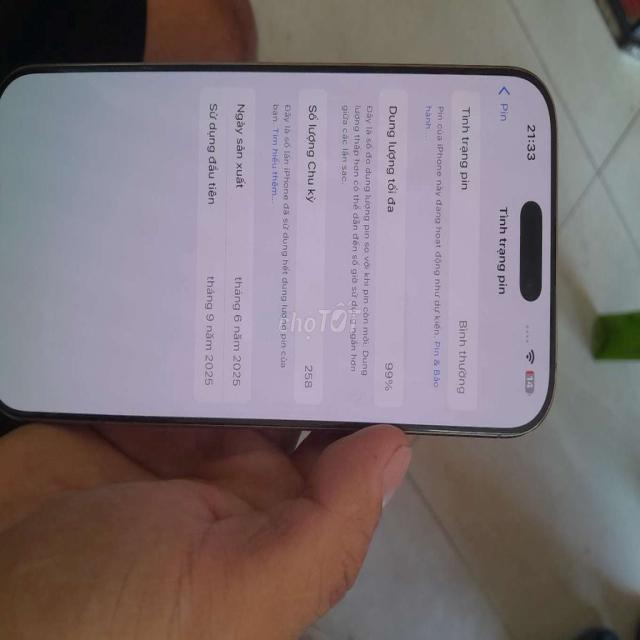gen_16: (0, 64, 558, 435)
